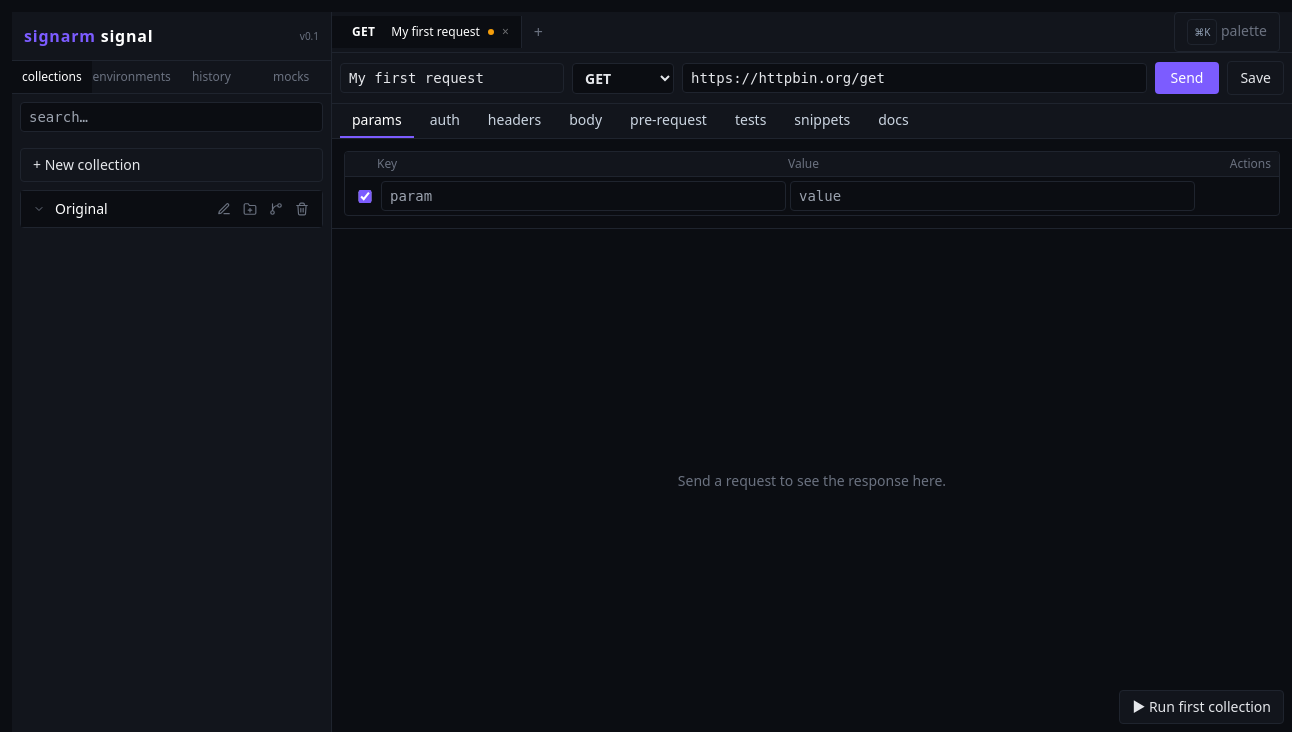
Test: rename — collections › double-clicking a collection name switches to an input and Enter commits
Expected: the button "+ New collection" is shown, [20, 148, 323, 182]
// Wait for the new collection row to render.
Double-click the text "Original": (81, 208) [55, 199, 108, 218]
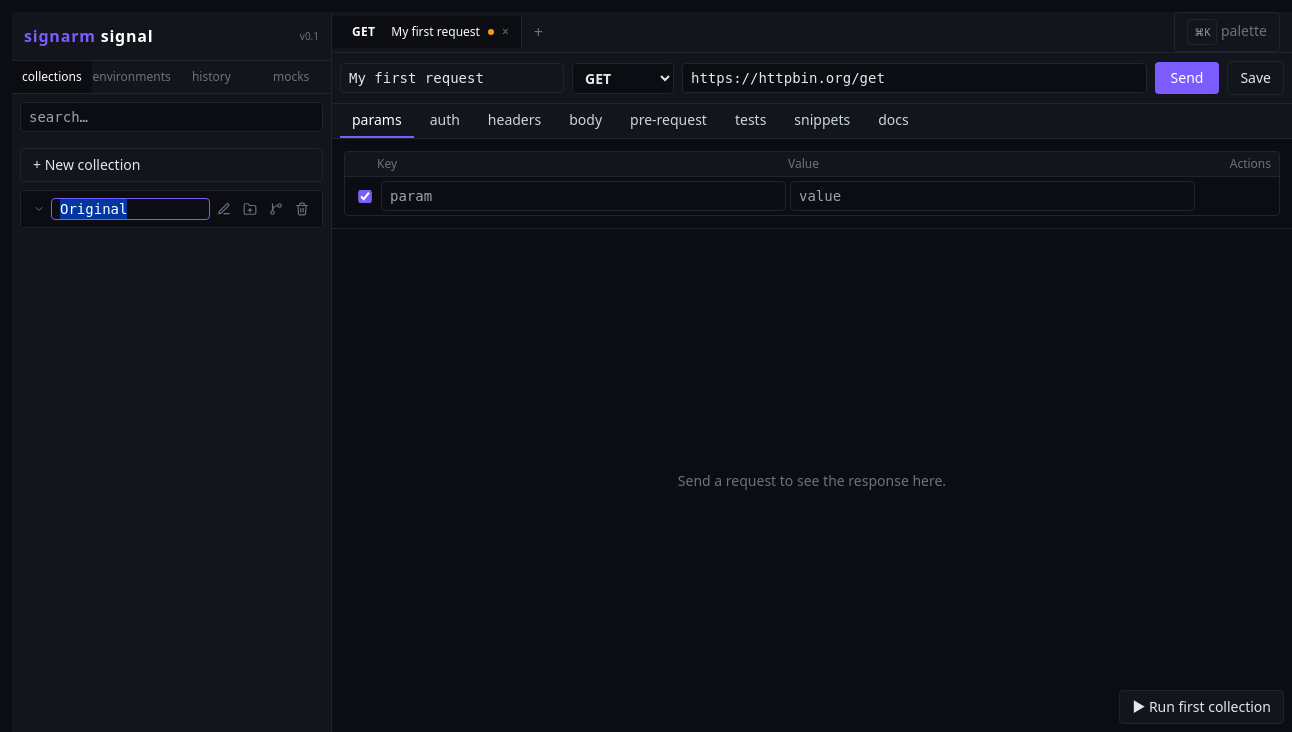
Replace the text in the field named "rename collection original" with "Renamed": (130, 209) [51, 198, 210, 220]
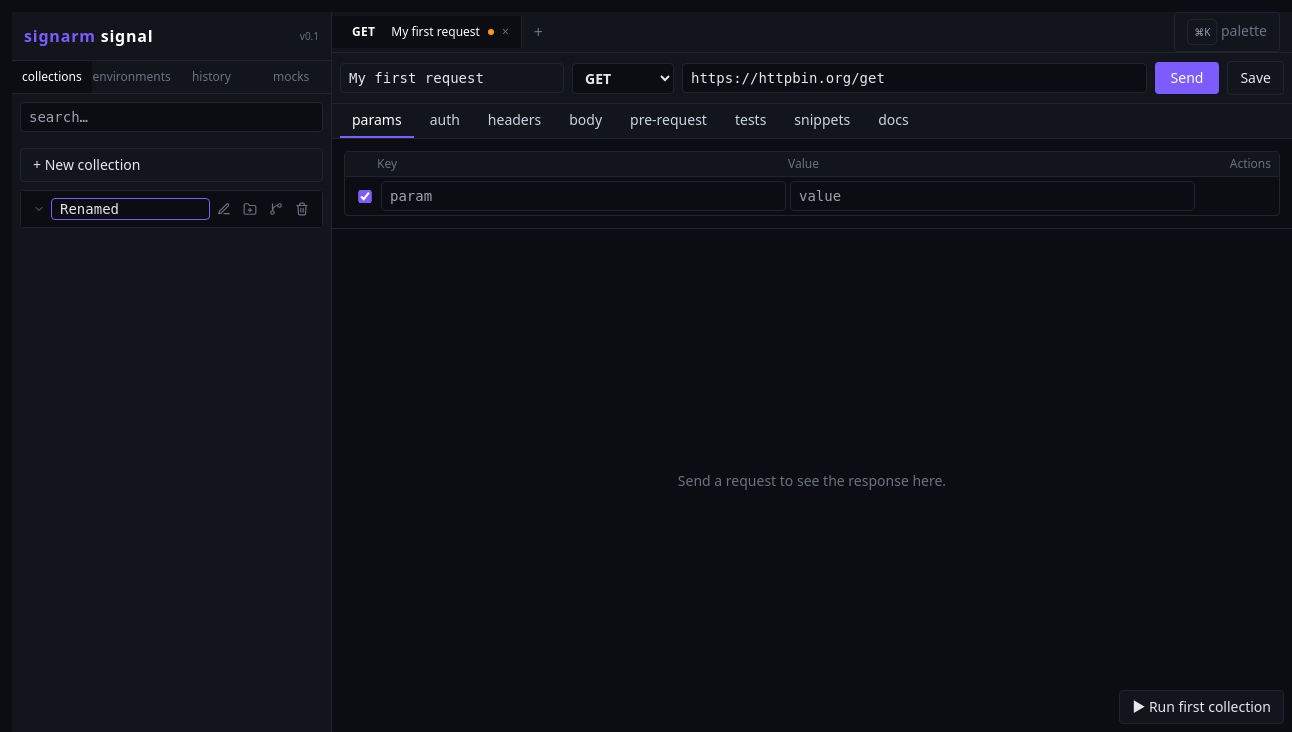
Press Enter in the field named "rename collection original", box [51, 198, 210, 220]
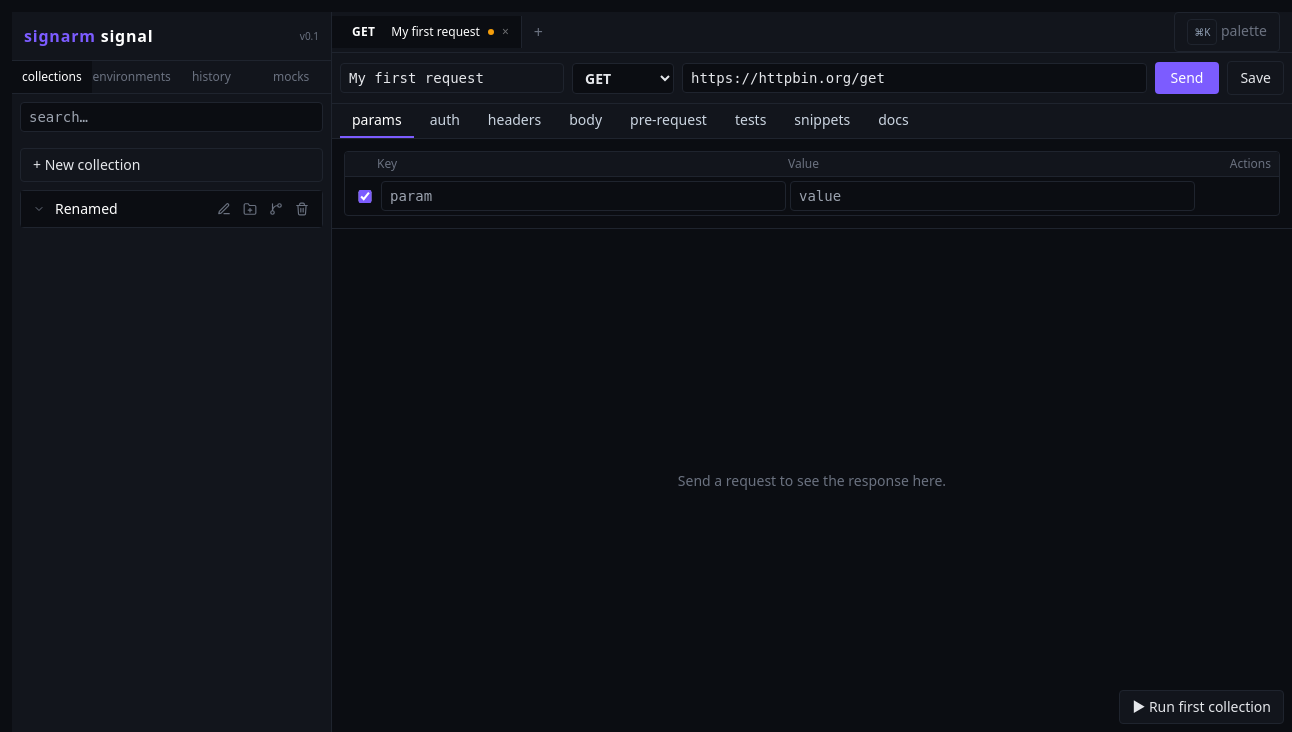
Now the text "Renamed" is shown, box [55, 199, 118, 218]
